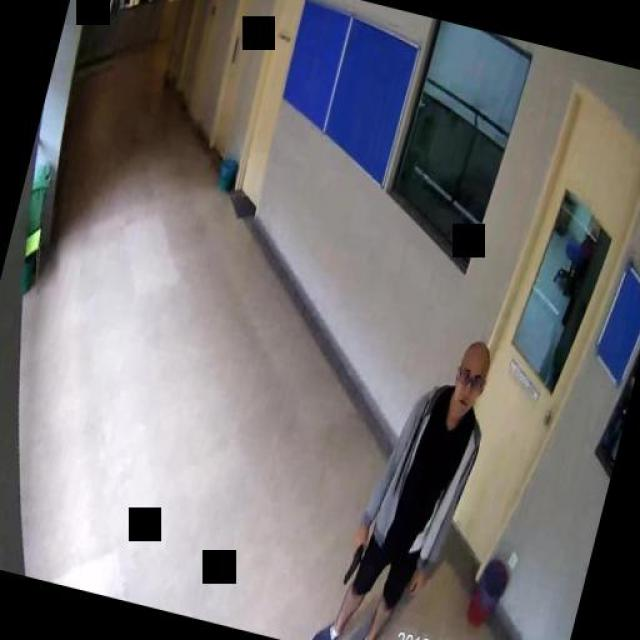gun: (341, 536, 365, 585)
